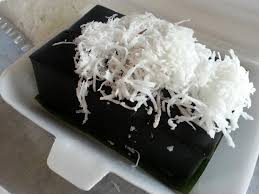kanompiakpoon: (34, 6, 257, 193)
